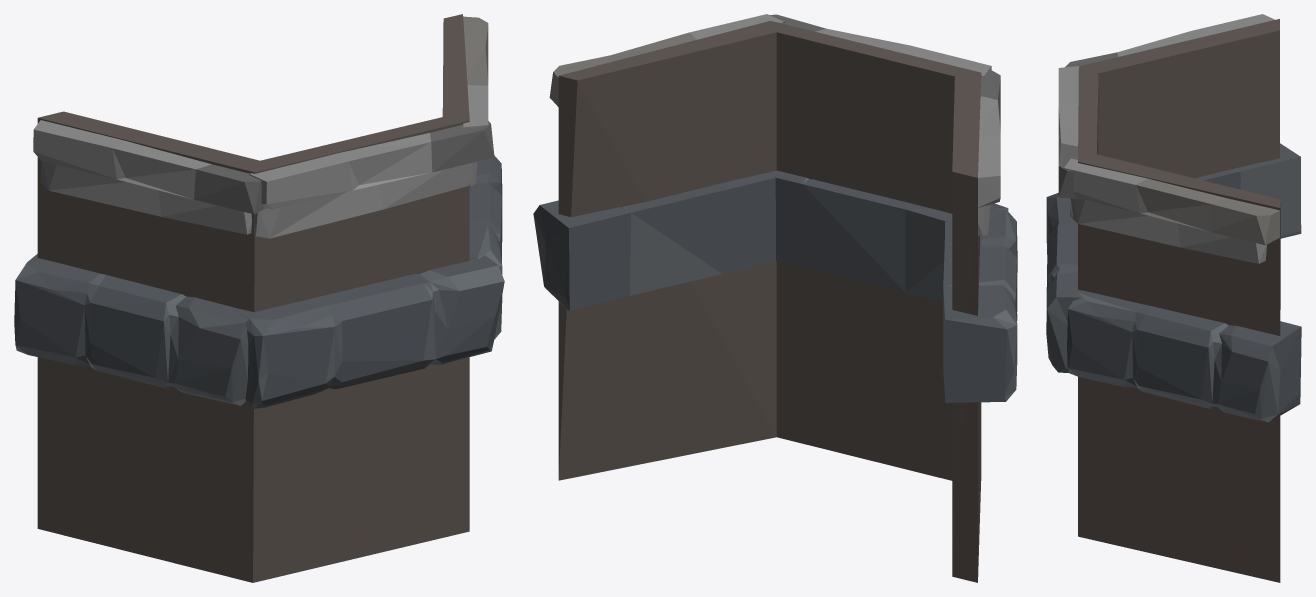
File: MCastle_SmallTurret_08.FBX
3 renders of one model, left to right at view 1: azimuth 30°, elevation 25°; view 2: azimuth 150°, elevation 25°; view 3: azimuth 270°, elevation 25°, orthographic. The views are drawn at different scales.
Parts seen in each view (by area): view 1: MCastle_SmallTurret_08_LOD0; view 2: MCastle_SmallTurret_08_LOD0; view 3: MCastle_SmallTurret_08_LOD0.
Boxes of the visible parts, x1,y1,x2,y2 form: MCastle_SmallTurret_08_LOD0: (14, 14, 504, 582); MCastle_SmallTurret_08_LOD0: (533, 14, 1017, 582); MCastle_SmallTurret_08_LOD0: (1046, 14, 1301, 582).
Size of what is drawn, in the model's own units: 6.08 by 4.88 by 3.02.
